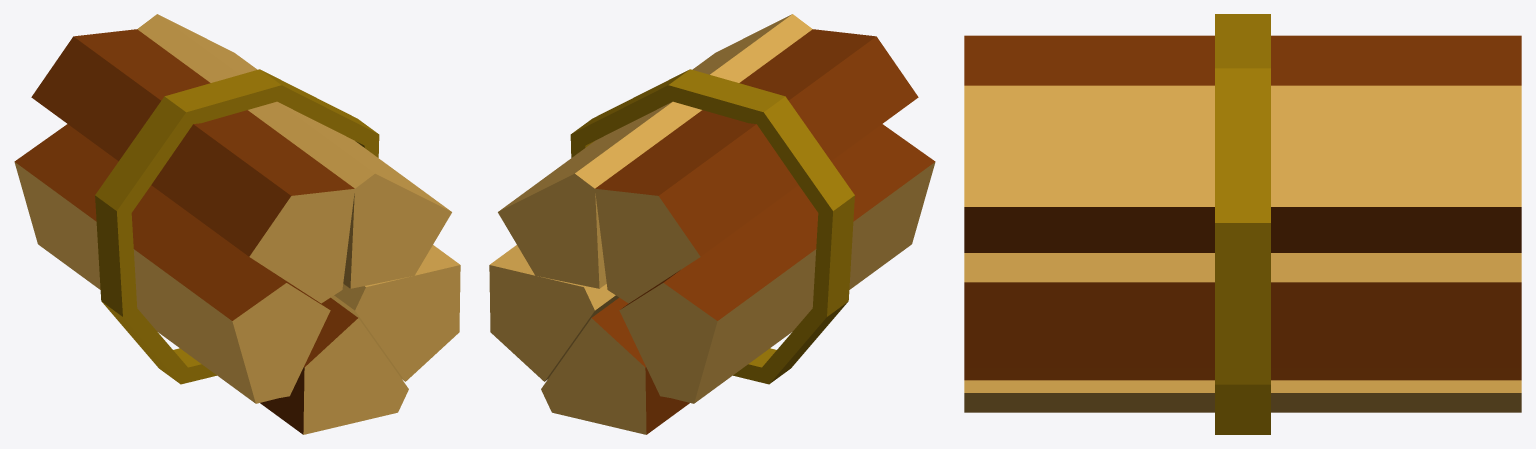
Rendered from Firewood_01.fbx.
The picture shows the model from 3 angles, left to right: view 1: azimuth 30°, elevation 25°; view 2: azimuth 150°, elevation 25°; view 3: azimuth 270°, elevation 25°; orthographic projection. The views are drawn at different scales.
Visible parts, largest first — view 1: Firewood_01; view 2: Firewood_01; view 3: Firewood_01.
Part boxes in pixels (<box>): Firewood_01: <box>14,14,460,434</box>; Firewood_01: <box>489,14,935,434</box>; Firewood_01: <box>964,14,1521,434</box>.
Bounding box in the file's own units: 34.76 × 34.77 × 50.
